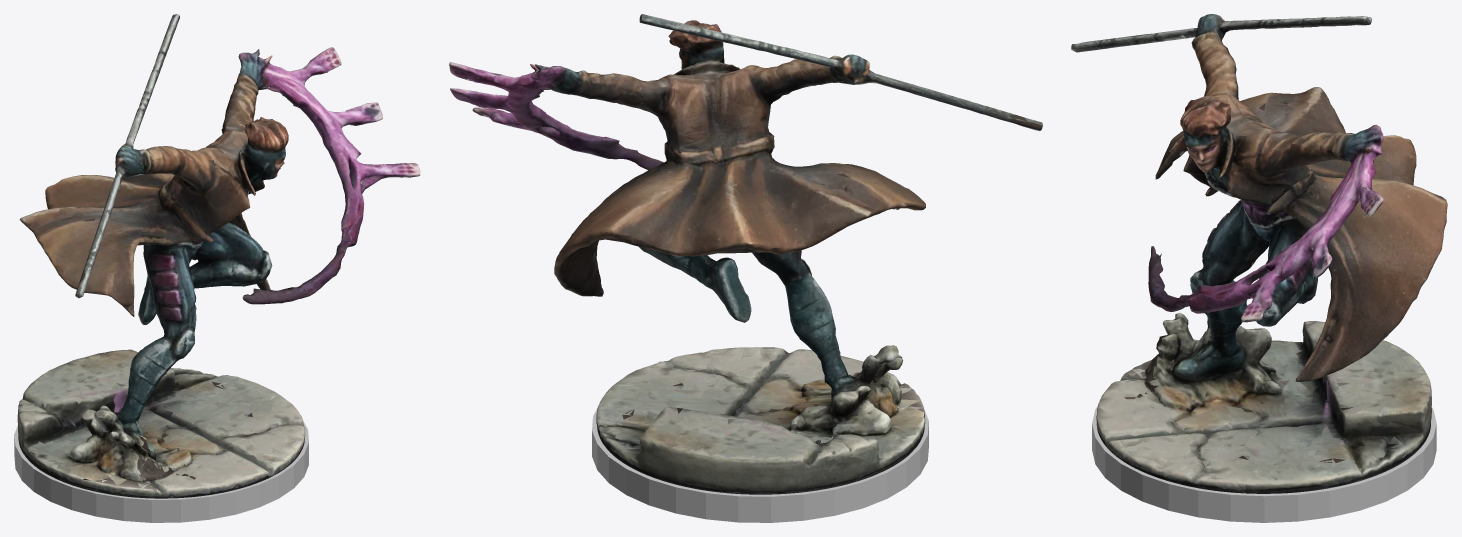
3 views of the same model, side by side, from view 1: azimuth 30°, elevation 25°; view 2: azimuth 150°, elevation 25°; view 3: azimuth 270°, elevation 25° (orthographic). The views are drawn at different scales.
Parts seen in each view (by area): view 1: Gambit, default; view 2: Gambit, default; view 3: Gambit, default.
Part boxes in pixels (x1,y1,x2,y2): Gambit: [17, 14, 420, 498]; default: [14, 423, 308, 522]; Gambit: [449, 14, 1042, 494]; default: [592, 408, 928, 522]; Gambit: [1071, 14, 1447, 493]; default: [1092, 406, 1436, 522].
Bounding box in the file's own units: 2.26 × 2.06 × 1.5.
2 materials, 1 textured.
